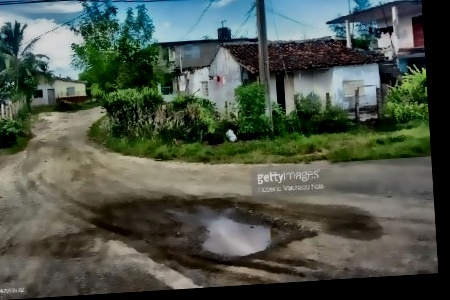pothole: (195, 208, 274, 261)
